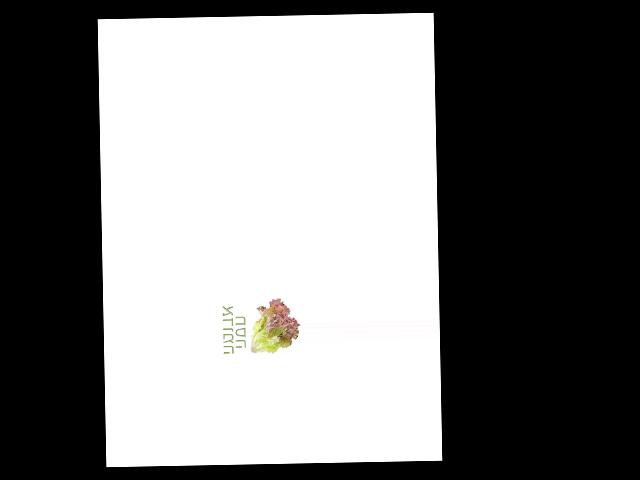lettuce: (247, 296, 300, 359)
